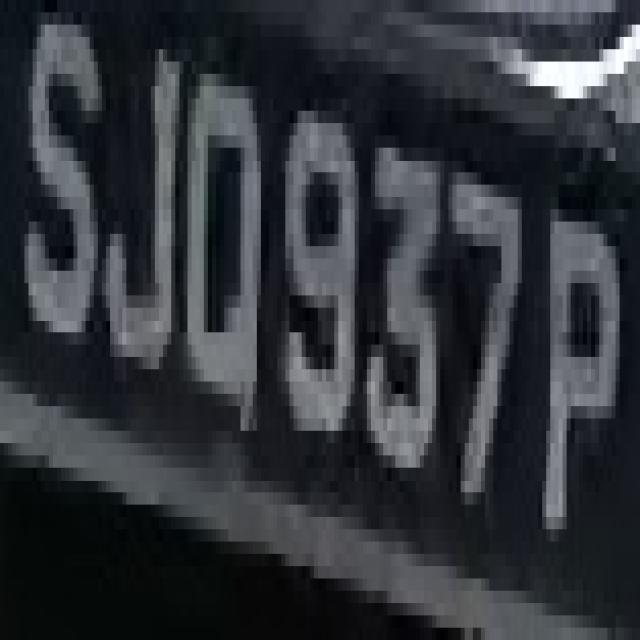3: (363, 99, 444, 492)
7: (436, 111, 522, 554)
9: (273, 74, 371, 480)
J: (106, 37, 183, 418)
P: (546, 148, 624, 590)
Q: (167, 37, 277, 455)
S: (29, 12, 110, 370)
